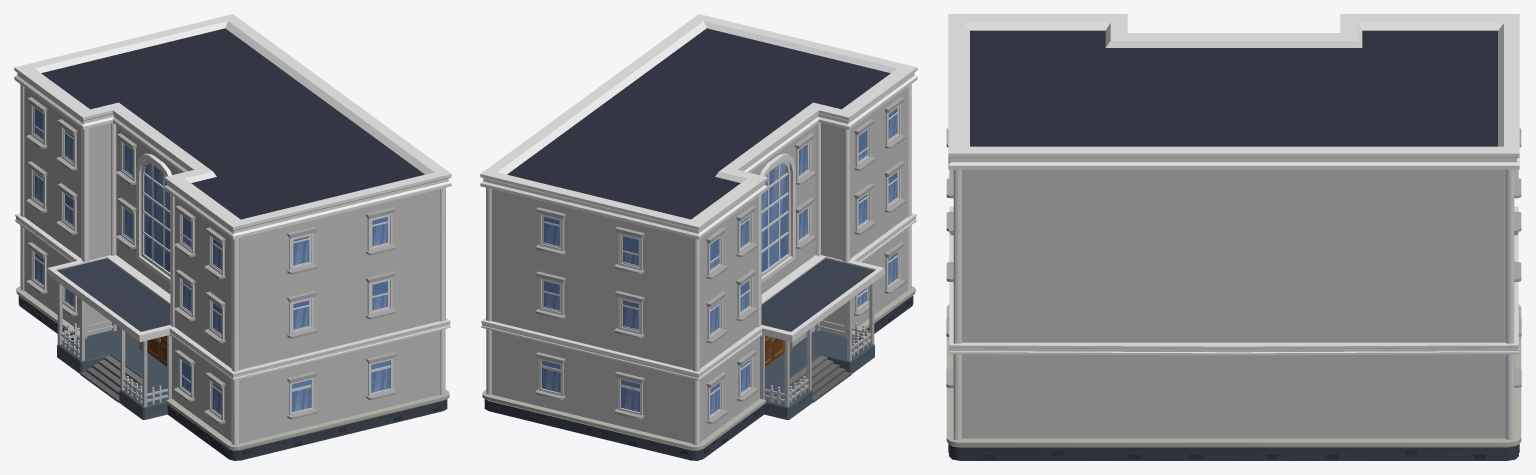
Rendered from Building_5_2_B.fbx.
3 views of the same model, side by side, from view 1: azimuth 30°, elevation 25°; view 2: azimuth 150°, elevation 25°; view 3: azimuth 270°, elevation 25° (orthographic). The views are drawn at different scales.
Parts seen in each view (by area): view 1: Building_5_2_B; view 2: Building_5_2_B; view 3: Building_5_2_B.
Part boxes in pixels (bbox=[...]): Building_5_2_B: bbox=[14, 14, 451, 460]; Building_5_2_B: bbox=[480, 14, 917, 460]; Building_5_2_B: bbox=[946, 14, 1521, 460].
Size of the model in its own units: 1251 by 1126 by 1908.
